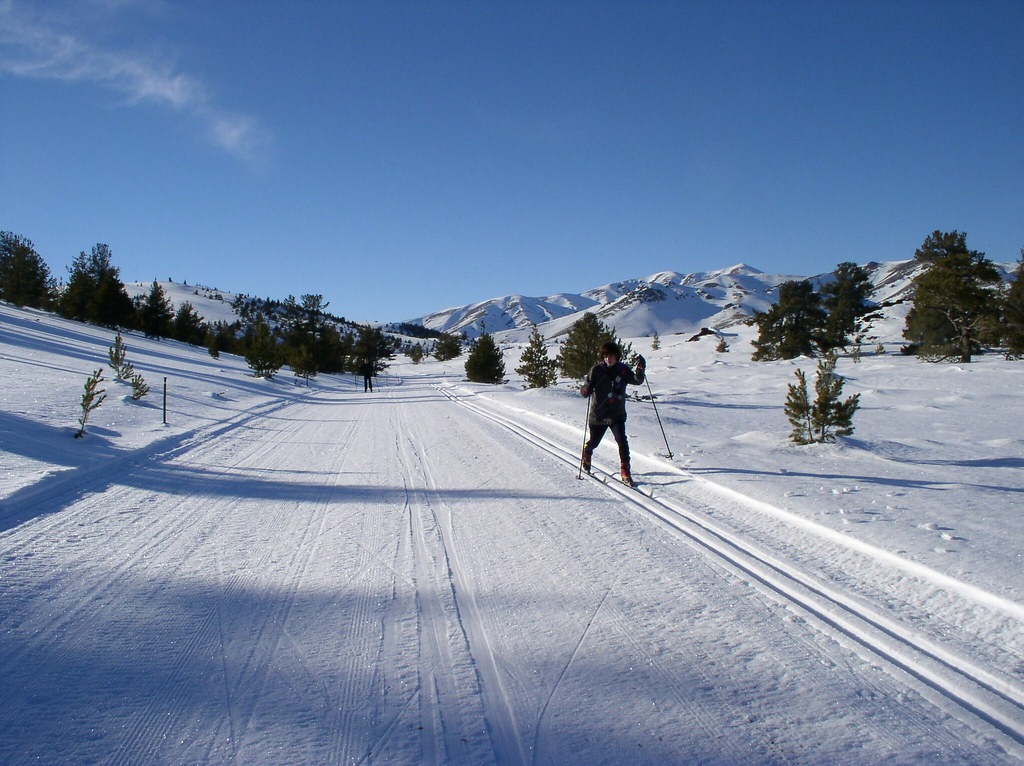skier: (573, 342, 673, 500), (354, 355, 381, 394)
